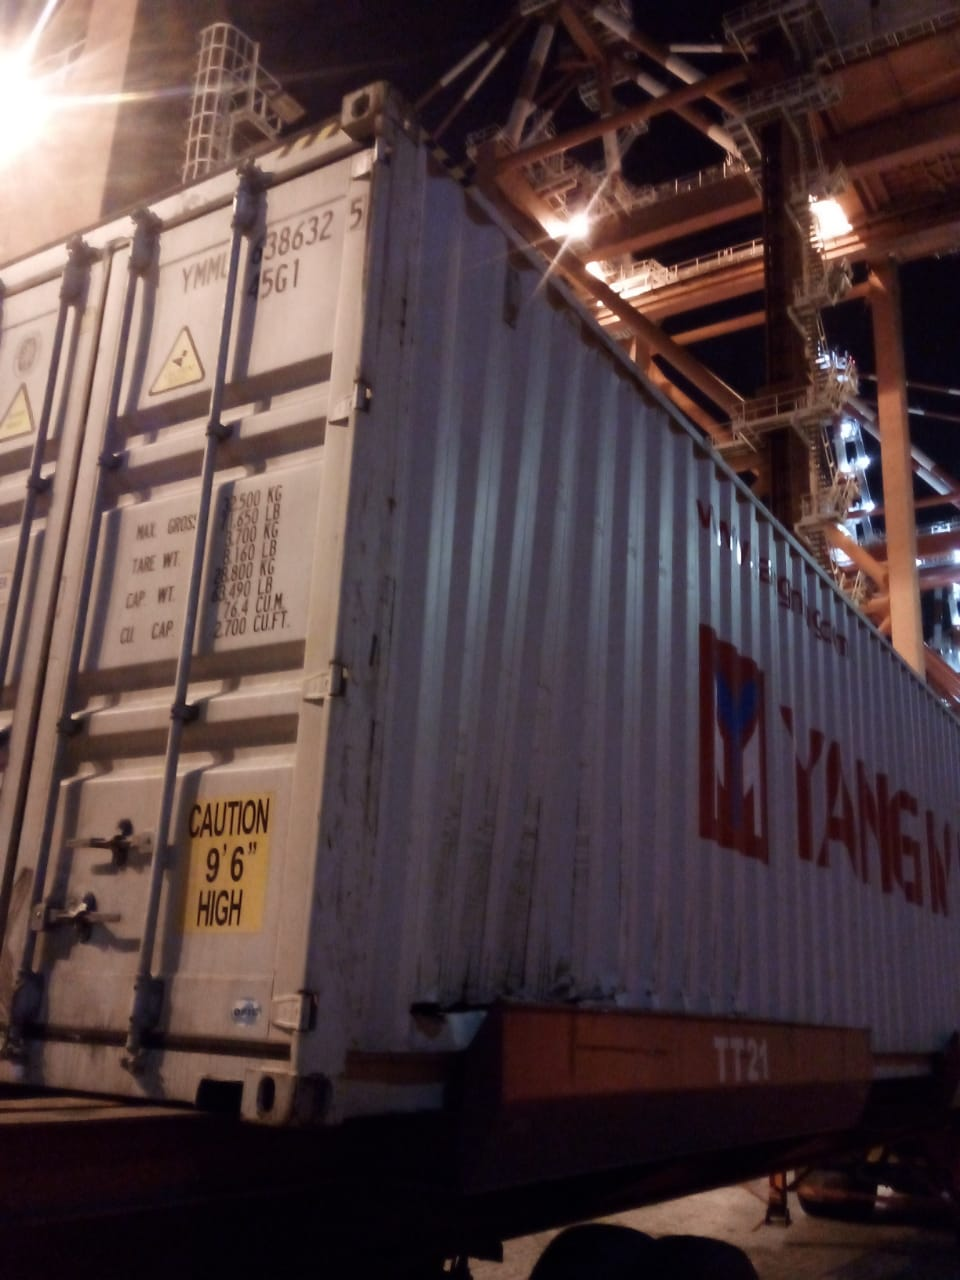moderate: (382, 908, 647, 1048)
